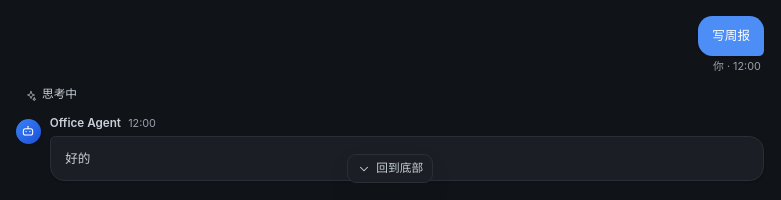
Test: ChatStream › 用户向上翻阅时出现「回到底部」，点击后收起
(page scrolled)
Click the button "回到底部".
click(390, 169)  # box [347,154,433,183]
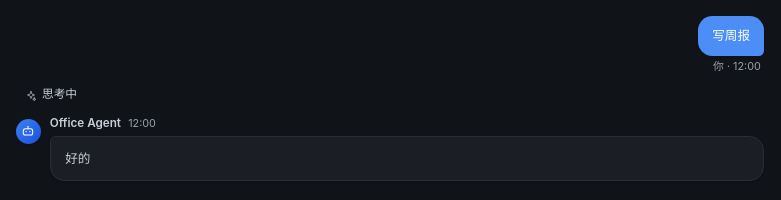
Check: the button "回到底部" is gone
